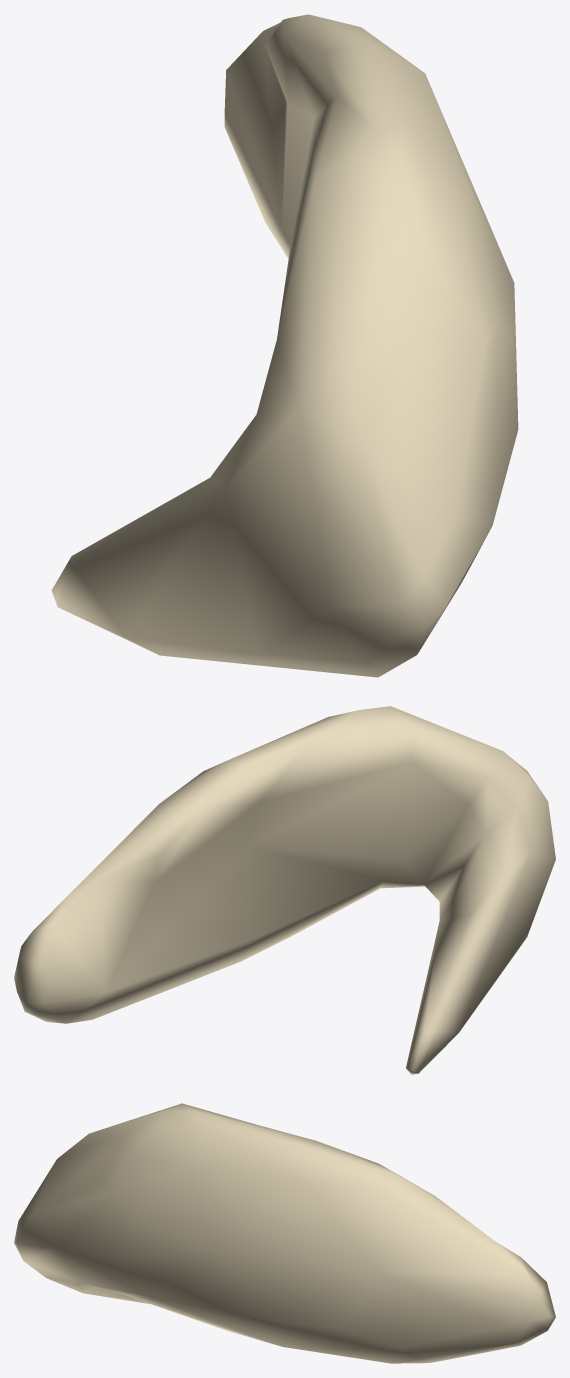
File: esqueleto-major-alar-cartilage-l.glb
3 renders of one model, top to bottom at view 1: azimuth 30°, elevation 25°; view 2: azimuth 150°, elevation 25°; view 3: azimuth 270°, elevation 25°, orthographic. The views are drawn at different scales.
Parts seen in each view (by area): view 1: Major alar cartilage.l; view 2: Major alar cartilage.l; view 3: Major alar cartilage.l.
Part boxes in pixels (x1,y1,x2,y2): Major alar cartilage.l: [51, 14, 518, 677]; Major alar cartilage.l: [14, 706, 555, 1074]; Major alar cartilage.l: [14, 1103, 555, 1363].
Size of the model in its own units: 0.0146 by 0.0142 by 0.0274.
